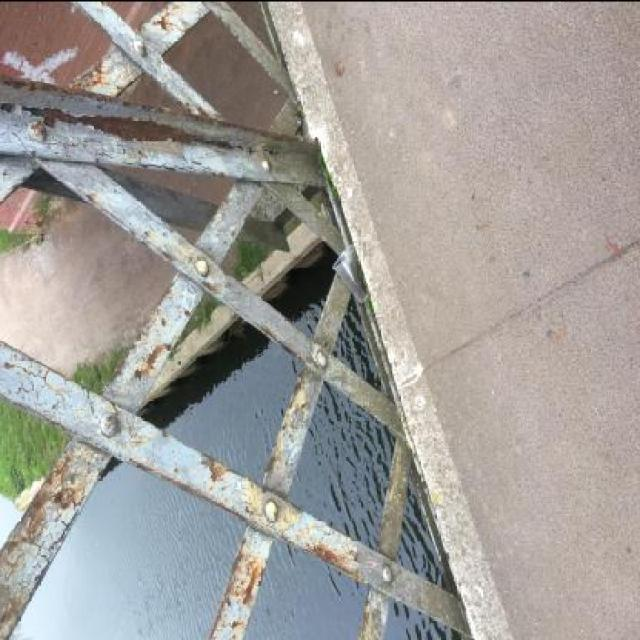plastic: (332, 242, 370, 301)
